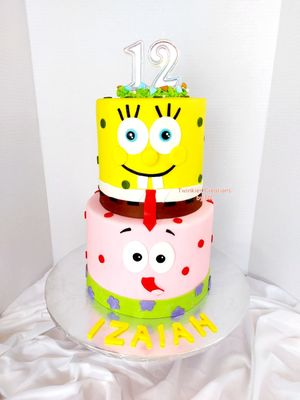sushi: (82, 81, 222, 344)
